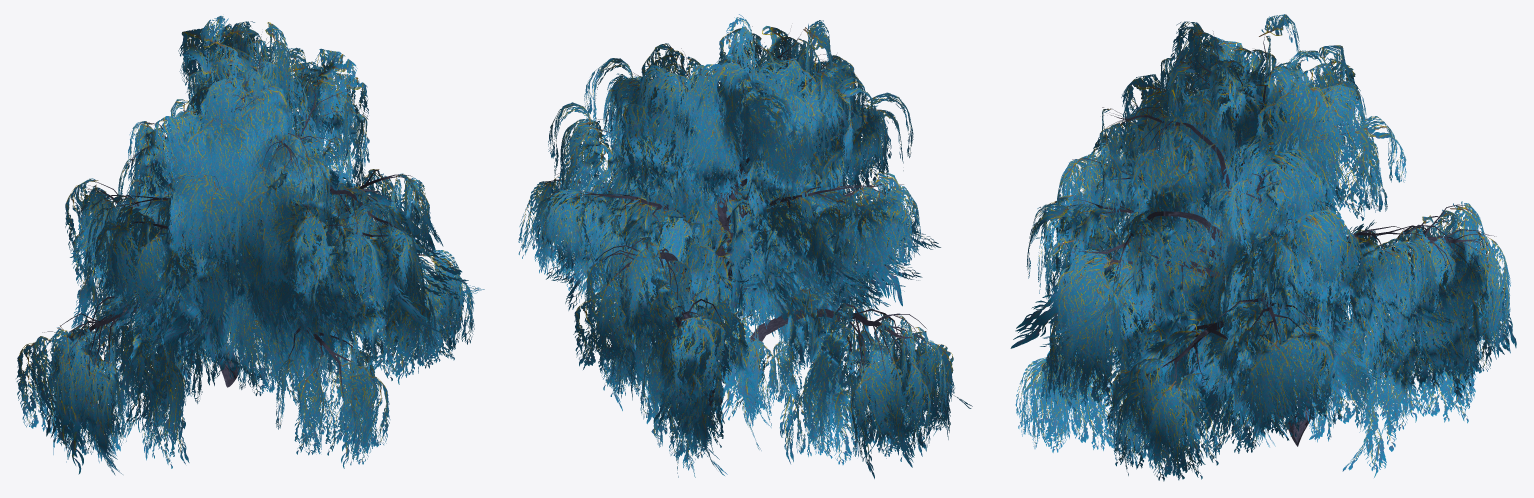
3 views of the same model, side by side, from view 1: azimuth 30°, elevation 25°; view 2: azimuth 150°, elevation 25°; view 3: azimuth 270°, elevation 25° (orthographic). The views are drawn at different scales.
Visible parts, largest first — view 1: SM_Willow_02_Canopy_LOD0; view 2: SM_Willow_02_Canopy_LOD0; view 3: SM_Willow_02_Canopy_LOD0.
Boxes of the visible parts, x1,y1,x2,y2 form: SM_Willow_02_Canopy_LOD0: (16, 16, 484, 475); SM_Willow_02_Canopy_LOD0: (518, 14, 972, 478); SM_Willow_02_Canopy_LOD0: (1010, 14, 1516, 481).
Size of the model in its own units: 17.62 by 17.29 by 17.02.
Materials: 1 (1 with a texture image).
